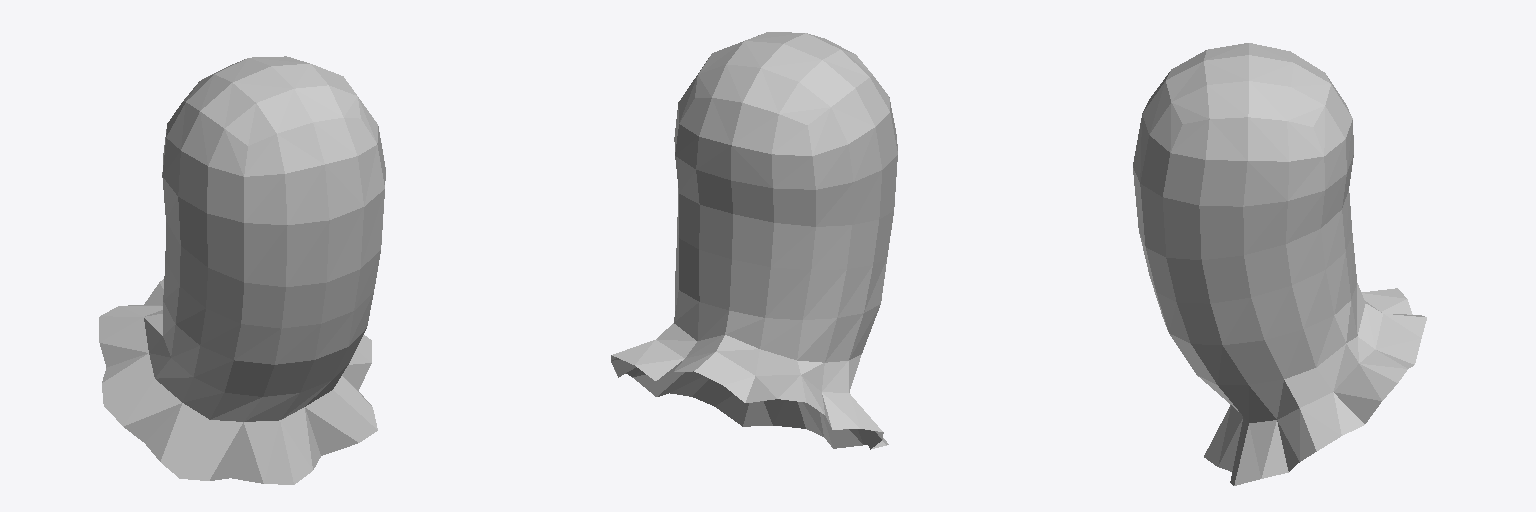
The model's file is ghostulon.obj.
The picture shows the model from 3 angles: view 1: azimuth 30°, elevation 25°; view 2: azimuth 150°, elevation 25°; view 3: azimuth 270°, elevation 25°; orthographic projection.
Visible parts, largest first — view 1: pCube1; view 2: pCube1; view 3: pCube1.
Part boxes in pixels (x1,y1,x2,y2): pCube1: (99, 56, 385, 484); pCube1: (611, 32, 897, 449); pCube1: (1133, 43, 1426, 485).
Size of the model in its own units: 1.31 by 1.88 by 1.25.